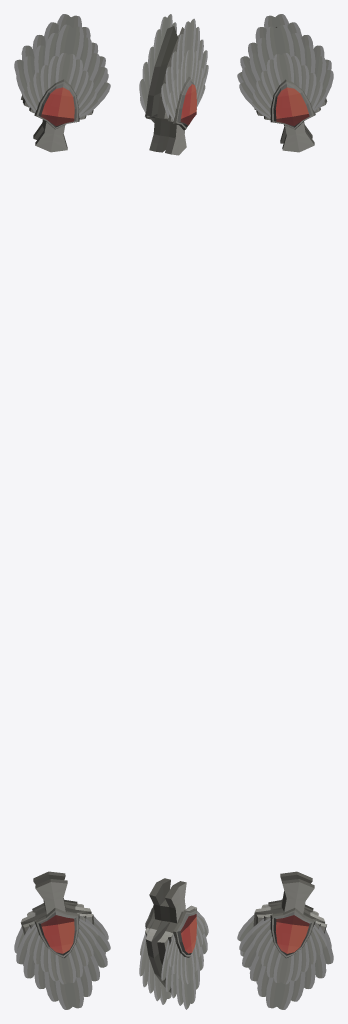
File: smallBowLostCrownTip.glb
3 renders of one model, left to right at view 1: azimuth 90°, elevation 25°; view 2: azimuth 150°, elevation 25°; view 3: azimuth 270°, elevation 25°, orthographic.
Visible parts, largest first — view 1: smallBowLostCrownTip; view 2: smallBowLostCrownTip; view 3: smallBowLostCrownTip.
Boxes of the visible parts, box(x1,y1,x2,y2) form: smallBowLostCrownTip: box(14, 14, 110, 1009); smallBowLostCrownTip: box(139, 14, 208, 1009); smallBowLostCrownTip: box(237, 14, 333, 1009).
Bounding box in the file's own units: 0.0584 × 1.55 × 0.1371.
